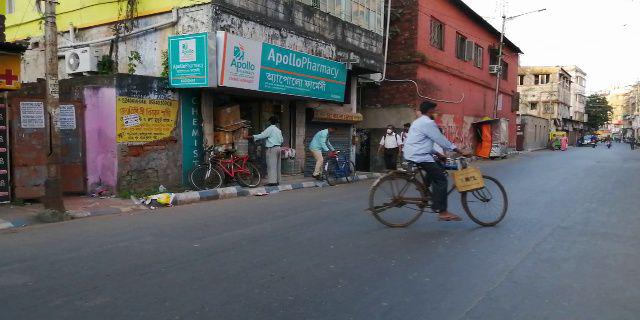Cycle: (365, 97, 517, 229), (190, 143, 261, 193)
